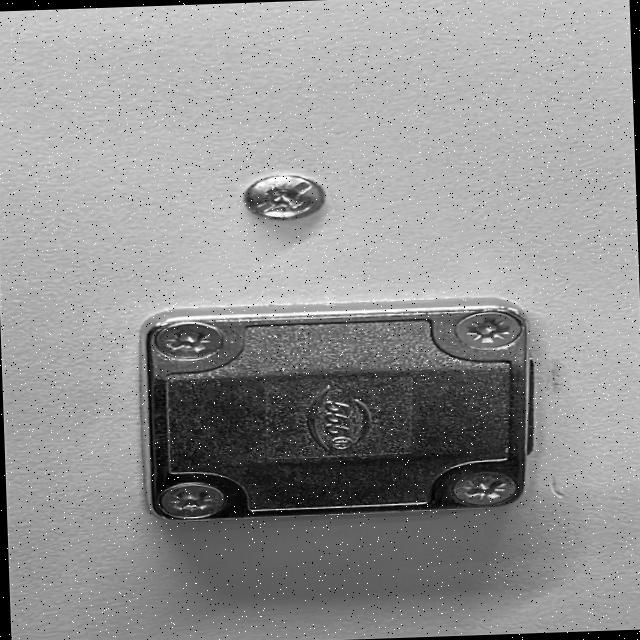Pozidriv: (430, 306, 532, 356), (442, 461, 536, 514), (243, 176, 334, 230), (144, 474, 236, 525), (158, 321, 232, 367)
